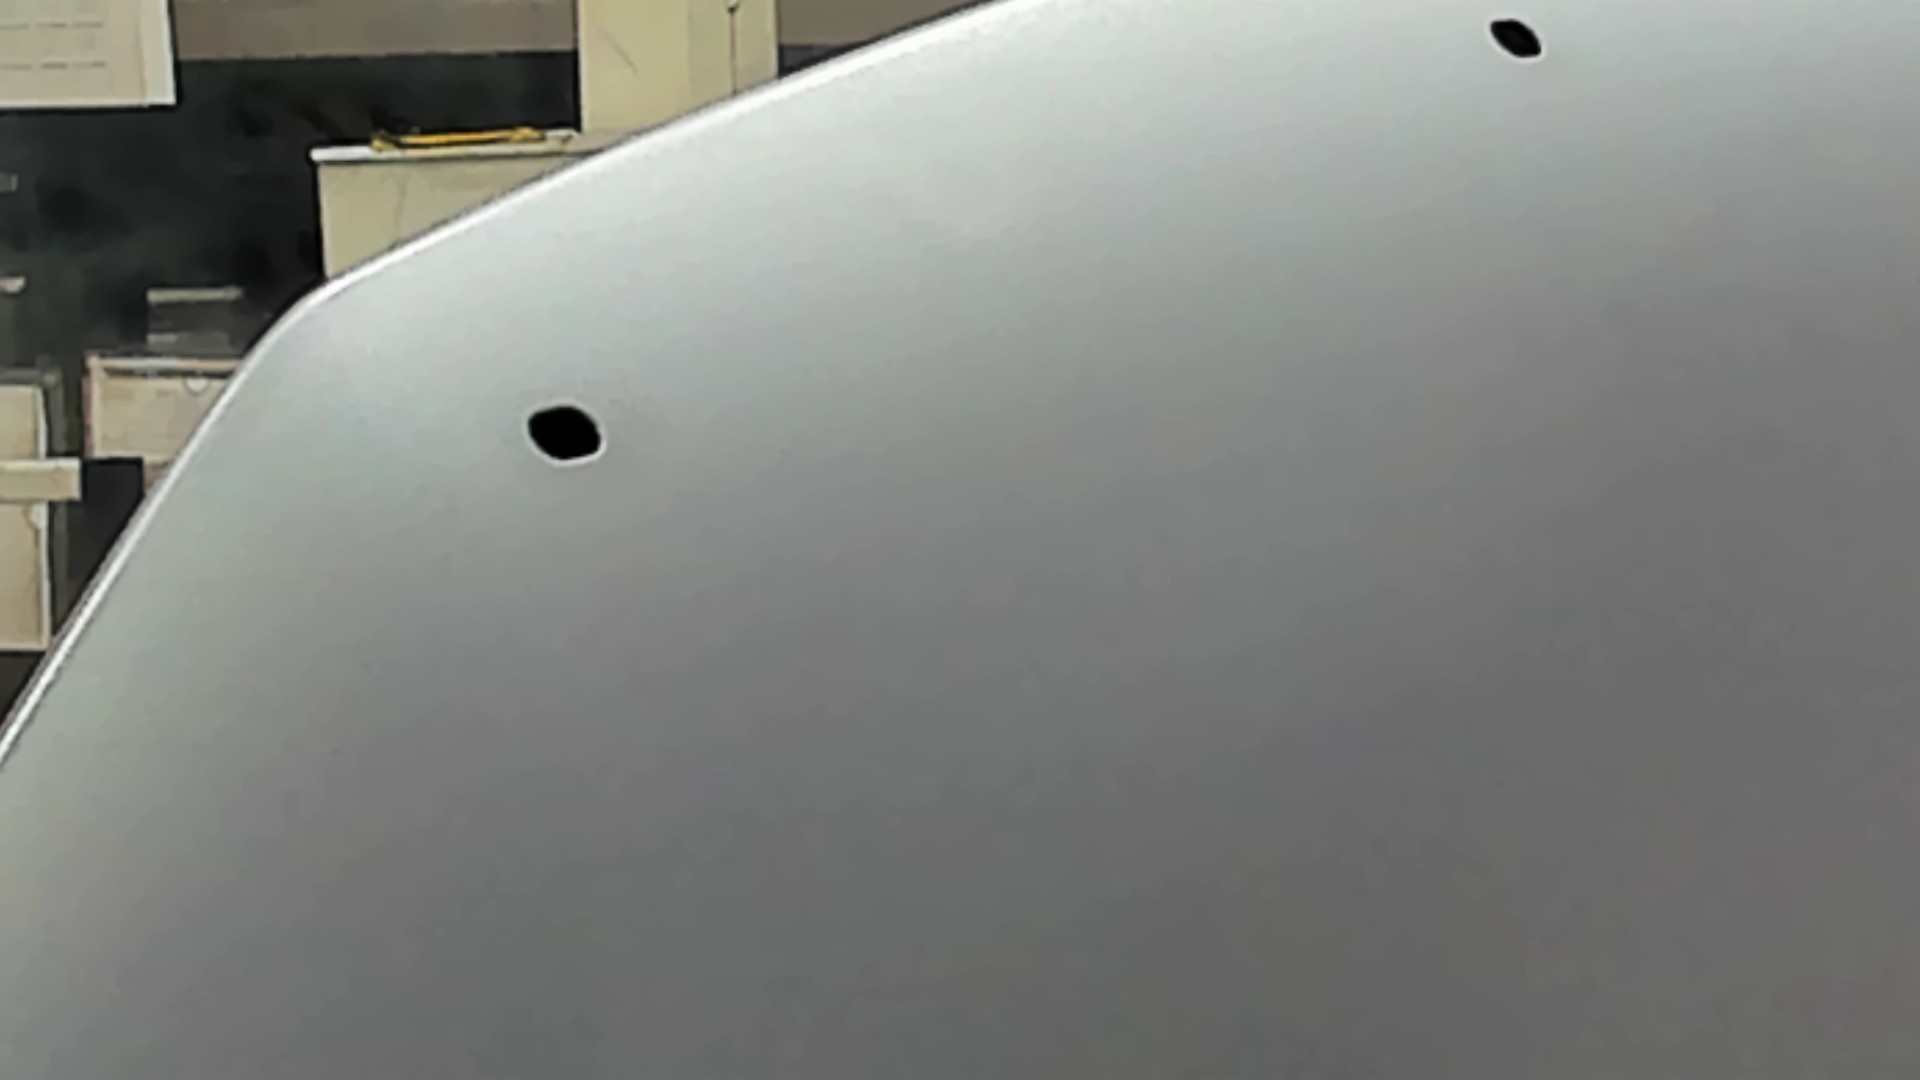Agujero: (524, 402, 604, 464), (1487, 17, 1542, 61)
